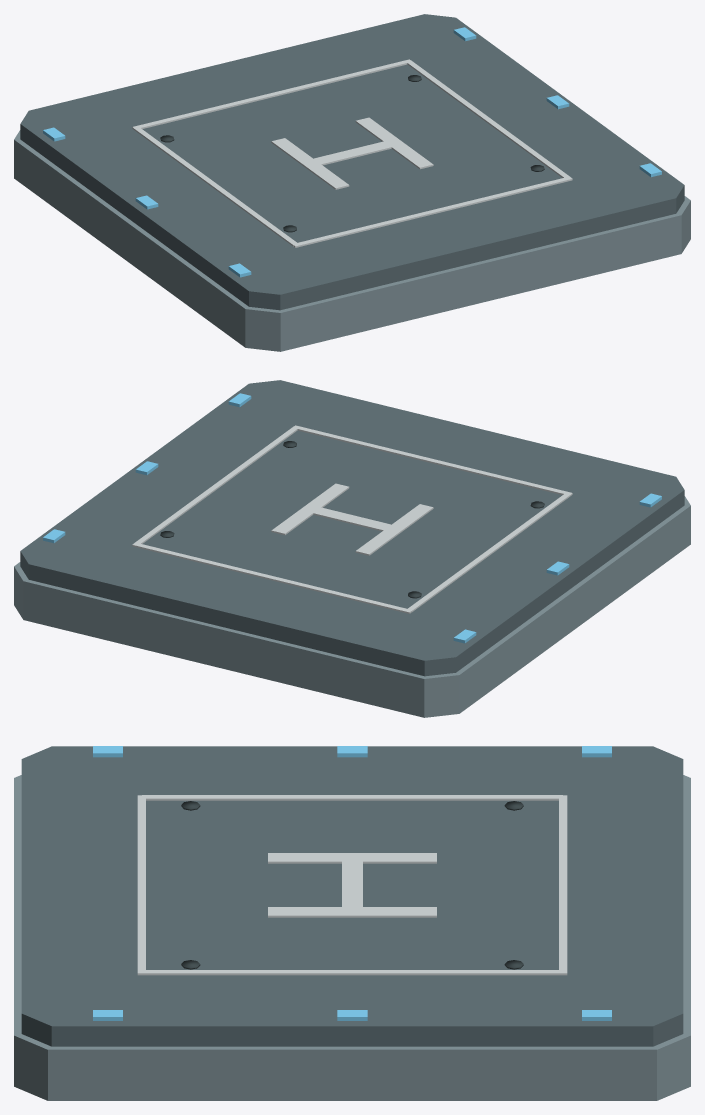
Rendered from MOD_HeliDeck_T1.fbx.
3 renders of one model, top to bottom at view 1: azimuth 30°, elevation 25°; view 2: azimuth 150°, elevation 25°; view 3: azimuth 270°, elevation 25°, orthographic. The views are drawn at different scales.
Parts seen in each view (by area): view 1: LandingSurface, BlockBase, PadBoundary.001, PadBoundary.003, PadBoundary, PadBoundary.002, HLeg, HLeg.001, HBar; view 2: LandingSurface, BlockBase, PadBoundary.003, PadBoundary.001, PadBoundary.002, PadBoundary, HLeg, HLeg.001, HBar; view 3: LandingSurface, BlockBase, PadBoundary.002, PadBoundary, HLeg.001, HLeg, PadBoundary.001, PadBoundary.003, HBar.
Boxes of the visible parts, <box> form: LandingSurface: <box>20,14,684,310</box>; BlockBase: <box>14,130,690,351</box>; PadBoundary.001: <box>294,176,572,247</box>; PadBoundary.003: <box>132,59,411,129</box>; PadBoundary: <box>133,127,298,246</box>; PadBoundary.002: <box>406,60,569,177</box>; HLeg: <box>271,138,349,189</box>; HLeg.001: <box>355,117,433,169</box>; HBar: <box>310,140,397,165</box>; LandingSurface: <box>20,380,684,676</box>; BlockBase: <box>14,496,690,717</box>; PadBoundary.003: <box>132,543,412,613</box>; PadBoundary.001: <box>293,425,572,495</box>; PadBoundary.002: <box>134,426,298,544</box>; PadBoundary: <box>408,493,571,612</box>; HLeg: <box>355,504,433,555</box>; HLeg.001: <box>271,483,349,535</box>; HBar: <box>307,506,397,531</box>; LandingSurface: <box>21,746,683,1046</box>; BlockBase: <box>14,775,690,1100</box>; PadBoundary.002: <box>142,970,562,975</box>; PadBoundary: <box>142,795,562,800</box>; HLeg.001: <box>268,907,436,917</box>; HLeg: <box>268,853,436,863</box>; PadBoundary.001: <box>137,795,145,975</box>; PadBoundary.003: <box>559,795,567,975</box>; HBar: <box>342,857,362,911</box>.
Bounding box in the file's own units: 180 × 22.4 × 180.
